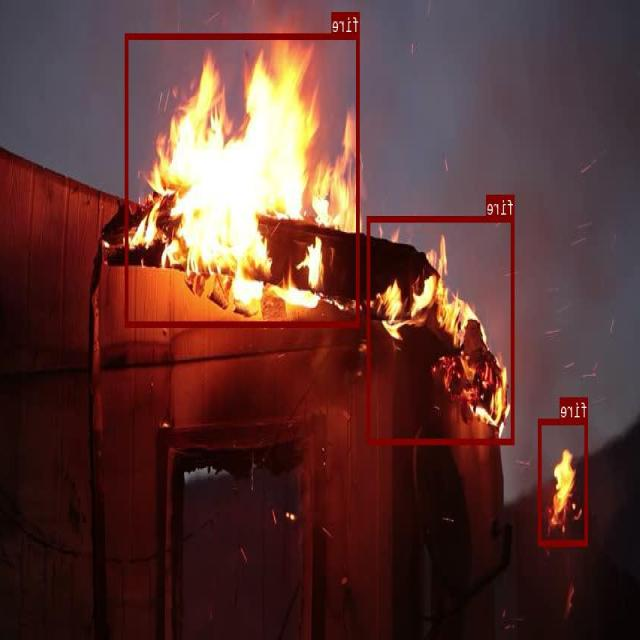fire: (126, 32, 360, 326), (368, 215, 515, 443), (538, 418, 588, 544)
